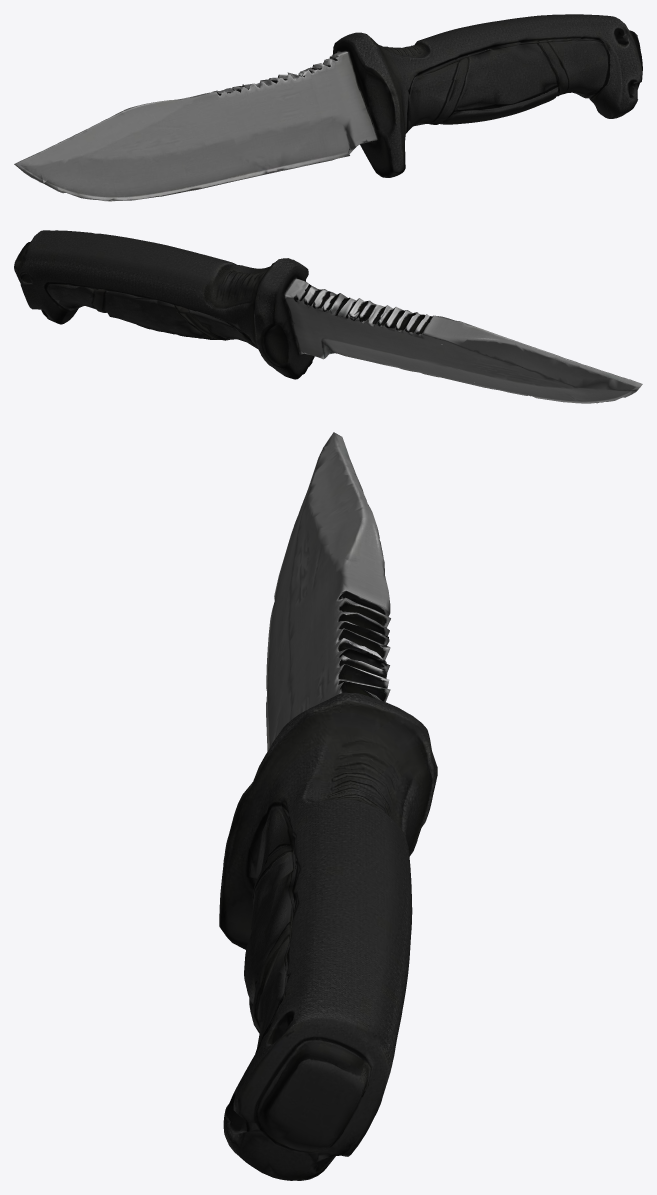
Rendered from tactical-knife.glb.
The picture shows the model from 3 angles, top to bottom: view 1: azimuth 30°, elevation 25°; view 2: azimuth 150°, elevation 25°; view 3: azimuth 270°, elevation 25°; orthographic projection. The views are drawn at different scales.
Visible parts, largest first — view 1: tripo_node_4b3fe2f0-6af6-458d-b4a8-28ec235936dd; view 2: tripo_node_4b3fe2f0-6af6-458d-b4a8-28ec235936dd; view 3: tripo_node_4b3fe2f0-6af6-458d-b4a8-28ec235936dd.
Boxes of the visible parts, x1=… form: tripo_node_4b3fe2f0-6af6-458d-b4a8-28ec235936dd: x1=14, y1=14, x2=642, y2=201; tripo_node_4b3fe2f0-6af6-458d-b4a8-28ec235936dd: x1=14, y1=230, x2=642, y2=403; tripo_node_4b3fe2f0-6af6-458d-b4a8-28ec235936dd: x1=219, y1=432, x2=437, y2=1180.
Size of the model in its own units: 0.9808 by 0.196 by 0.1507.
1 material, 1 textured.
